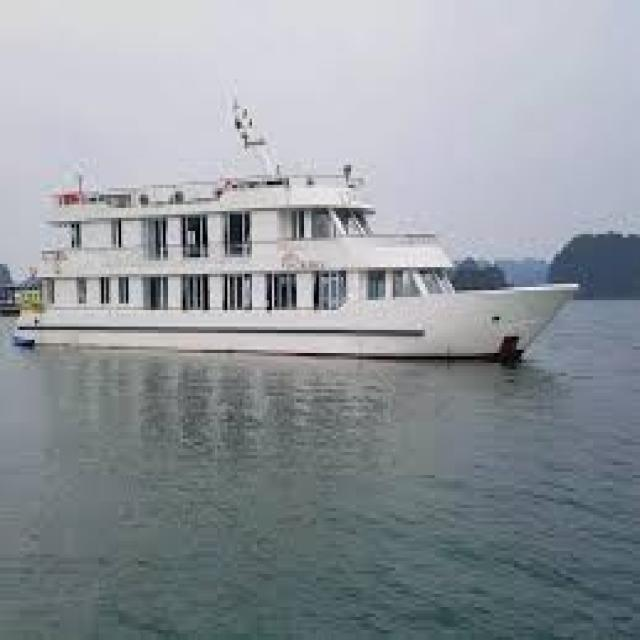houseboat: (33, 100, 565, 377)
